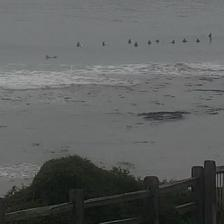surfer: (46, 55, 57, 60), (76, 41, 81, 47), (134, 42, 138, 47), (147, 40, 151, 45), (182, 39, 187, 43), (208, 33, 212, 38), (102, 42, 106, 46), (128, 40, 132, 44), (156, 39, 160, 43), (171, 40, 175, 44), (196, 38, 200, 42)
